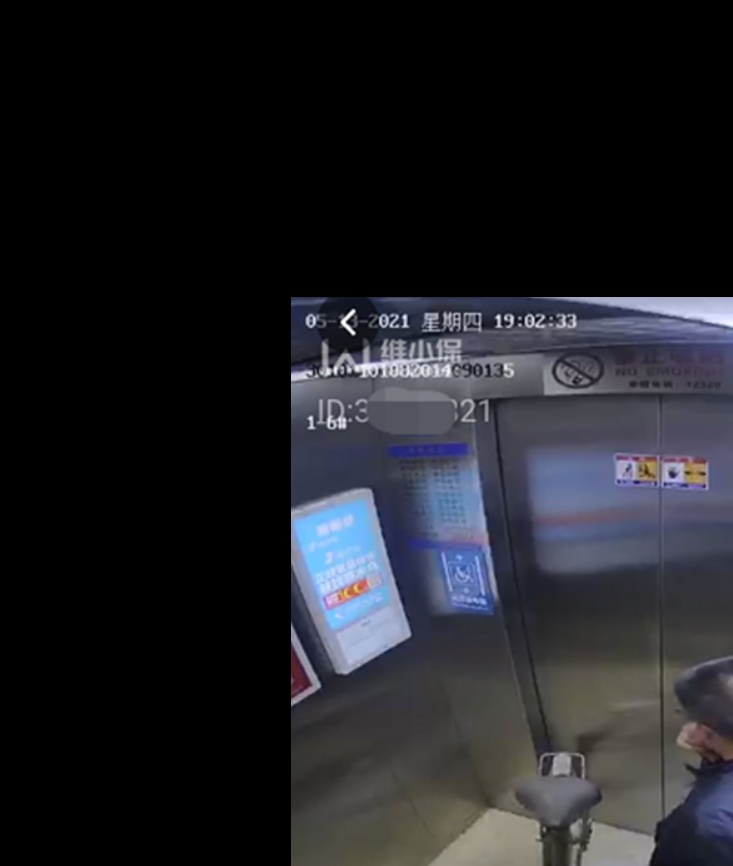person: (661, 661, 733, 866)
